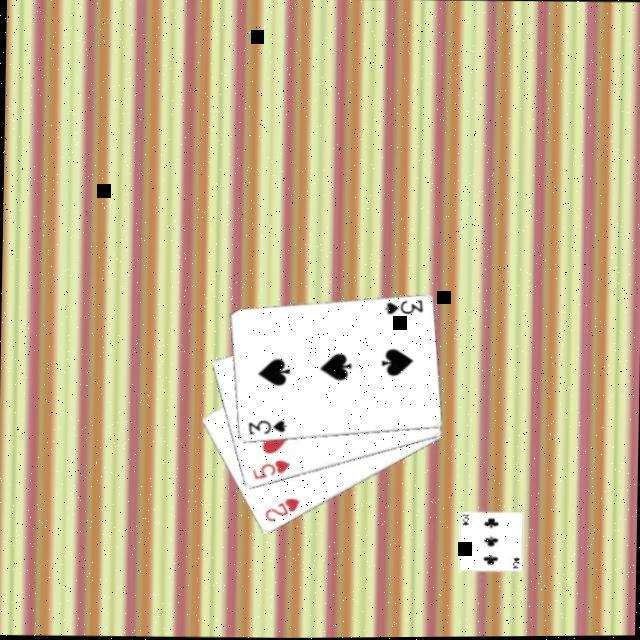2H: (262, 496, 302, 526)
3S: (245, 418, 289, 439), (382, 298, 425, 318)
5H: (250, 458, 292, 483)
